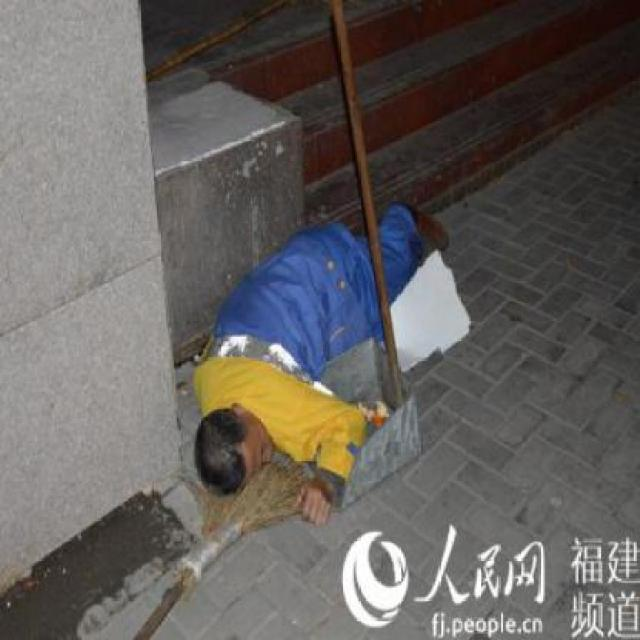fall: (176, 177, 475, 523)
